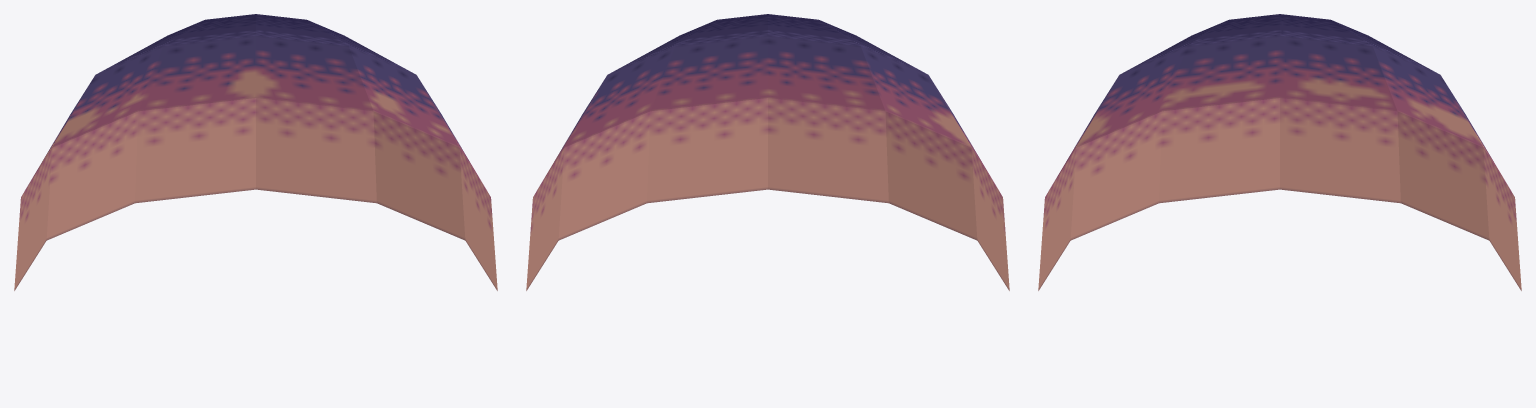
The model's file is sky.backdrop.glb.
The picture shows the model from 3 angles, left to right: view 1: azimuth 30°, elevation 25°; view 2: azimuth 150°, elevation 25°; view 3: azimuth 270°, elevation 25°; orthographic projection.
Parts seen in each view (by area): view 1: kit_shell_sky; view 2: kit_shell_sky; view 3: kit_shell_sky.
Part boxes in pixels (<box>): kit_shell_sky: <box>14,14,497,290</box>; kit_shell_sky: <box>526,14,1009,290</box>; kit_shell_sky: <box>1038,14,1521,290</box>.
Bounding box in the file's own units: 791 × 460 × 791.
1 material, 1 textured.
